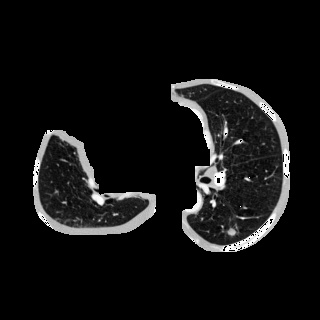PN: (227, 228, 235, 236)
